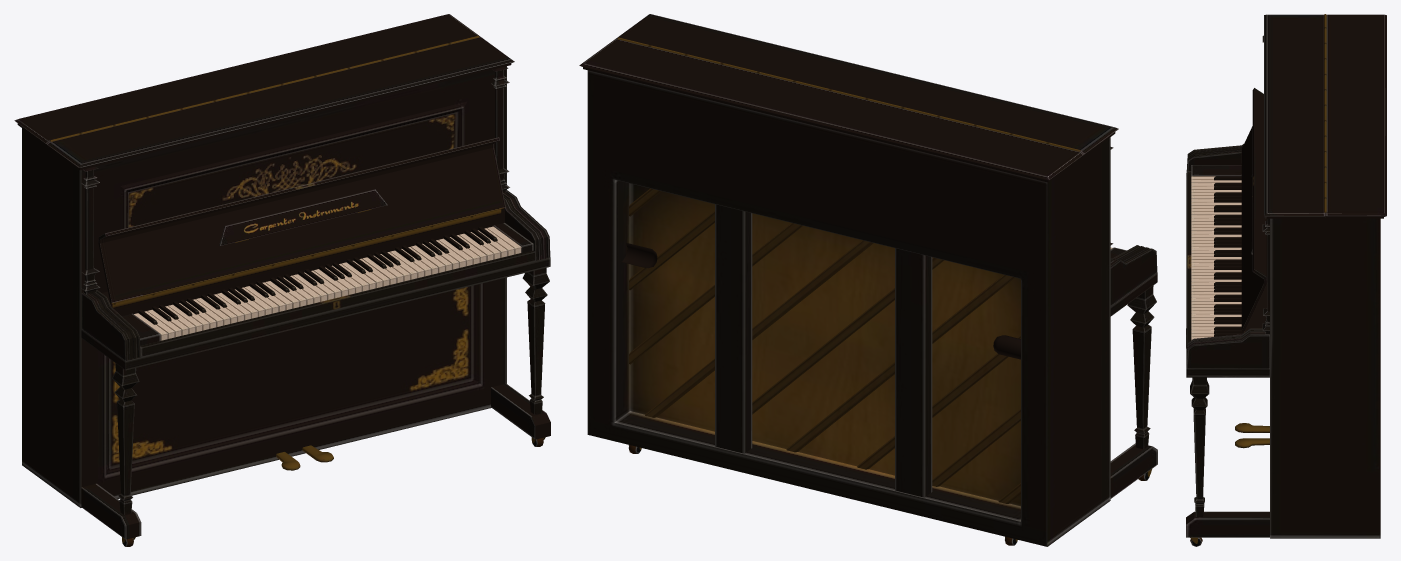
File: piano.gltf
The picture shows the model from 3 angles, left to right: view 1: azimuth 30°, elevation 25°; view 2: azimuth 150°, elevation 25°; view 3: azimuth 270°, elevation 25°; orthographic projection. The views are drawn at different scales.
Visible parts, largest first — view 1: Piano_2; view 2: Piano_2; view 3: Piano_2.
Boxes of the visible parts, x1,y1,x2,y2 form: Piano_2: (14, 14, 550, 546); Piano_2: (579, 14, 1157, 546); Piano_2: (1186, 14, 1386, 546).
Size of the model in its own units: 2.76 by 2.18 by 1.17.
1 material, 1 textured.
